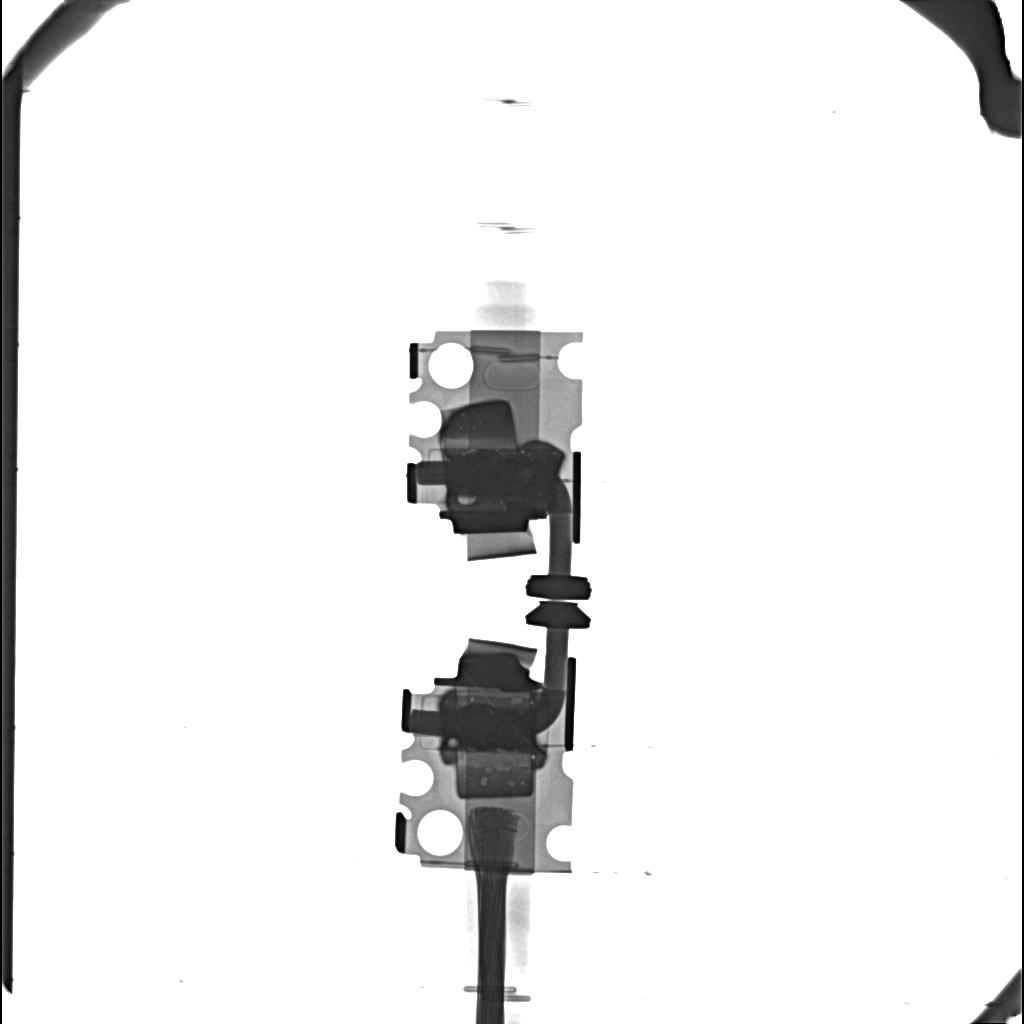PX: (439, 401, 518, 456), (456, 755, 534, 798)
QP: (458, 496, 476, 505)
SX: (446, 451, 562, 495), (444, 704, 537, 749)
